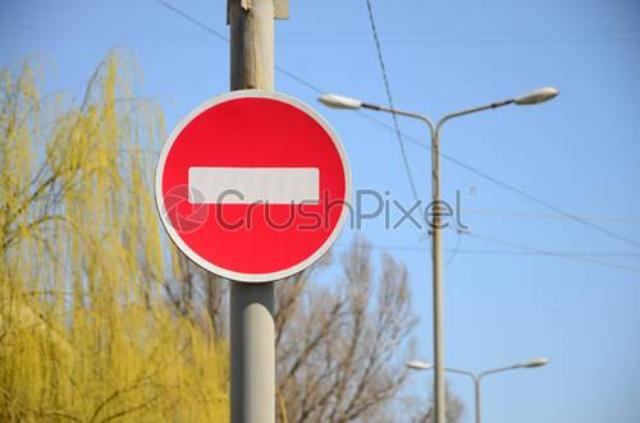B2: (152, 88, 352, 284)
